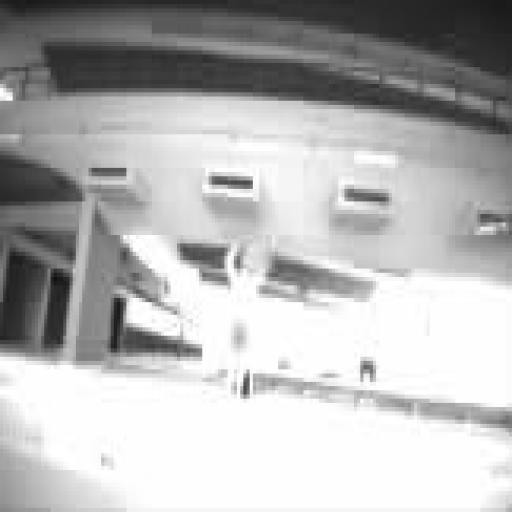human: (225, 240, 271, 398)
